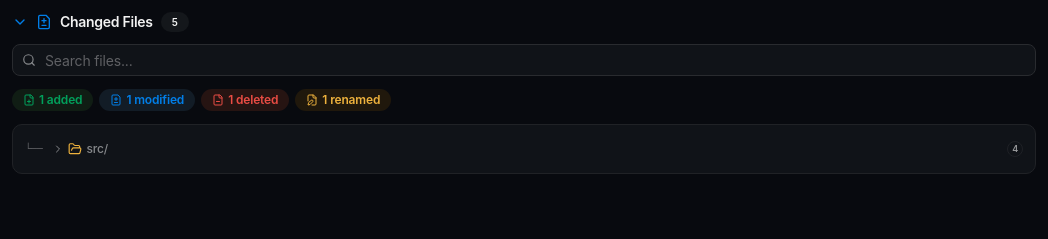
Test: ChangedFilesSection › search functionality › should filter files by search query
In the field with placeholder "Search files...": coordinates (524, 60) [12,44,1036,76], type "Button"
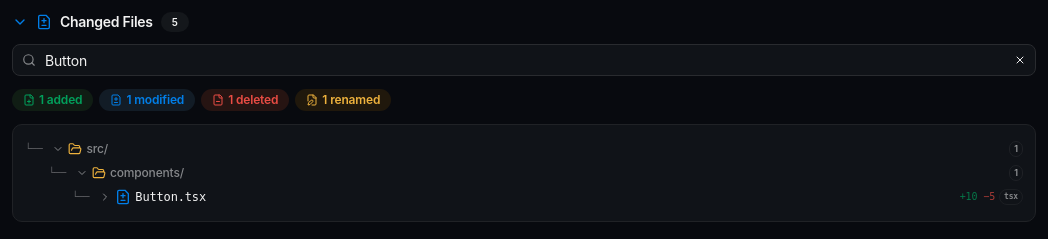
Now the text "Button.tsx" is shown, box [135,190,206,204]
